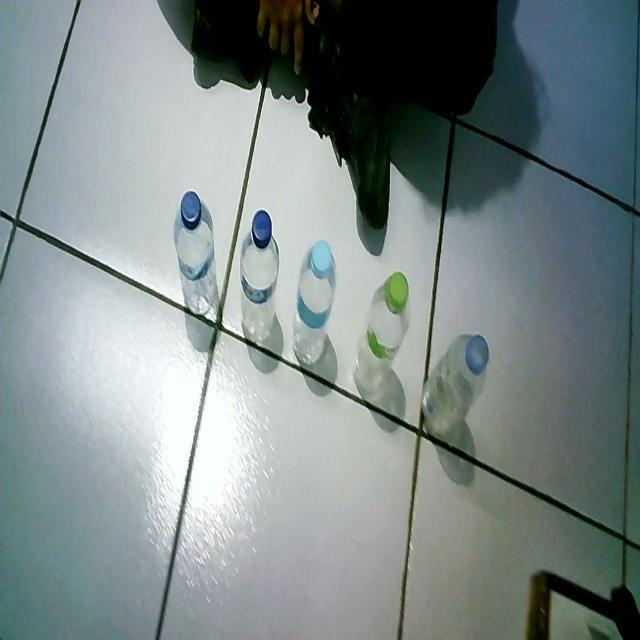botol: (422, 286, 494, 522), (353, 265, 415, 429), (166, 164, 223, 332), (234, 193, 288, 364), (291, 226, 346, 391)
